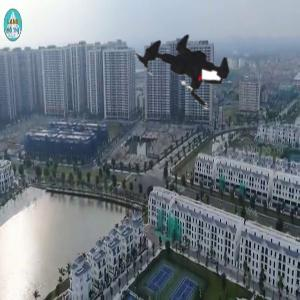drone: (113, 2, 255, 144)
